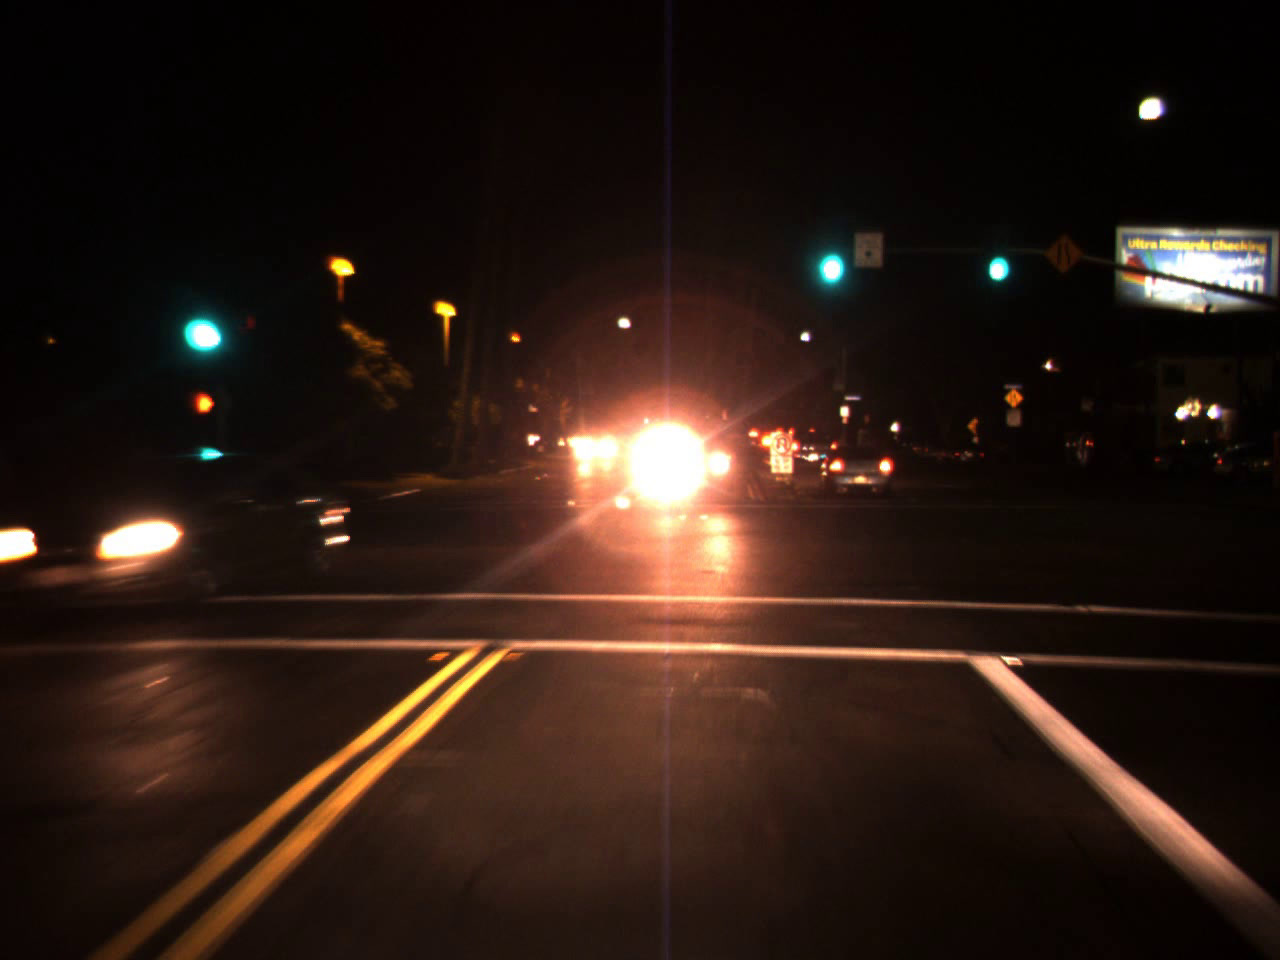go: (177, 281, 227, 362), (808, 213, 849, 297), (981, 225, 1013, 291)
